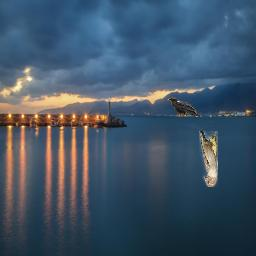Crow: (168, 97, 203, 117)
Sparrow: (200, 131, 219, 187)
